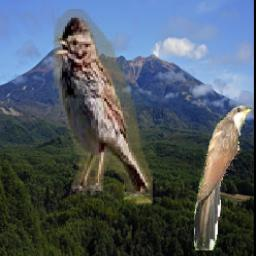Cuckoo: (193, 104, 252, 252)
Sparrow: (52, 10, 152, 204)
